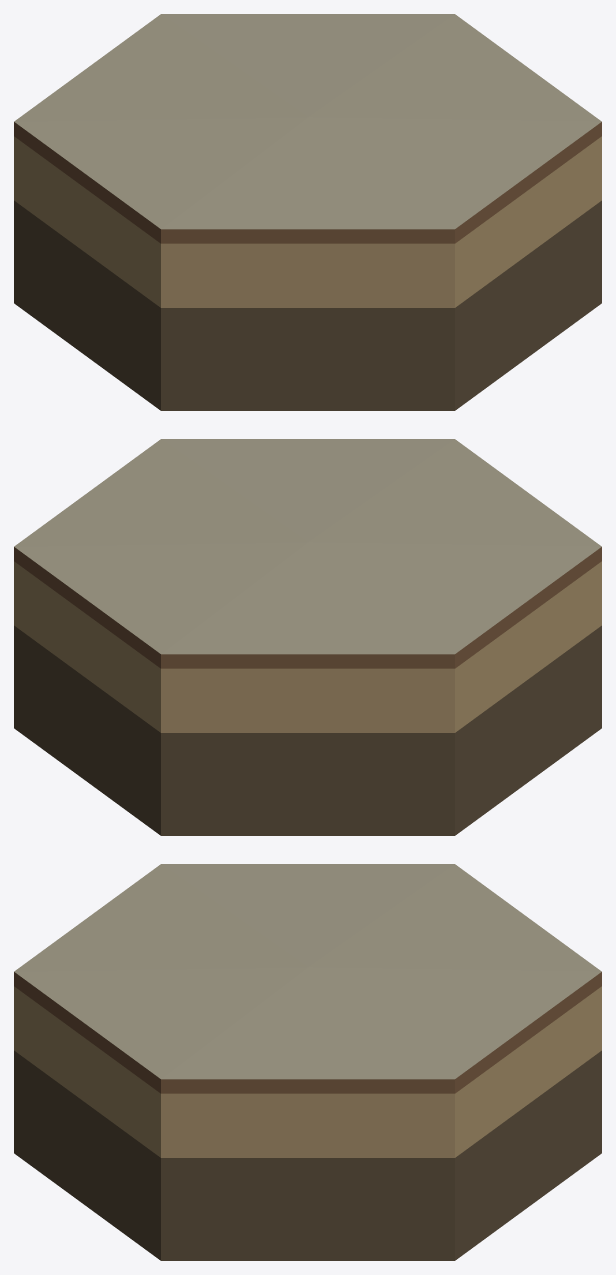
Rendered from AW-HEX-HIGHLAND-v0.1.glb.
3 views of the same model, one above another, from view 1: azimuth 30°, elevation 25°; view 2: azimuth 150°, elevation 25°; view 3: azimuth 270°, elevation 25° (orthographic).
Visible parts, largest first — view 1: AW-HEX-HIGHLAND-v01; view 2: AW-HEX-HIGHLAND-v01; view 3: AW-HEX-HIGHLAND-v01.
Part boxes in pixels (x1,y1,x2,y2): AW-HEX-HIGHLAND-v01: (14, 14, 601, 410); AW-HEX-HIGHLAND-v01: (14, 439, 601, 835); AW-HEX-HIGHLAND-v01: (14, 864, 601, 1260).
Bounding box in the file's own units: 3.81 × 1.54 × 4.4.
